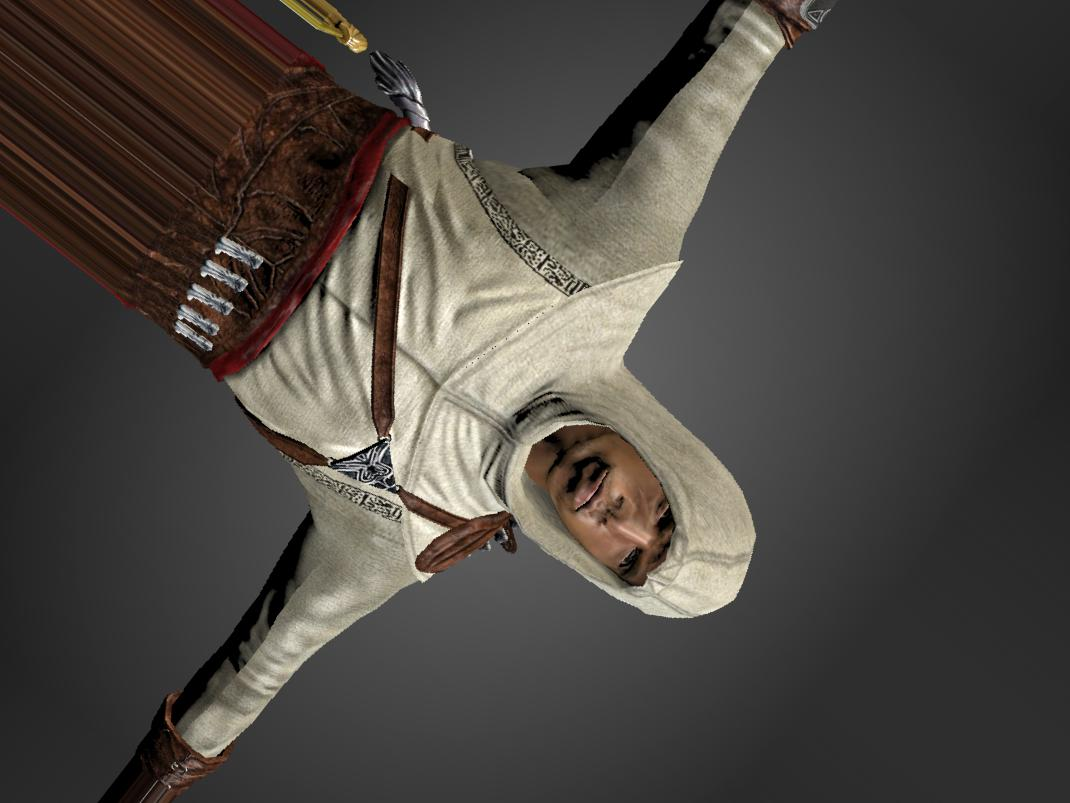clip: (374, 135, 438, 199)
